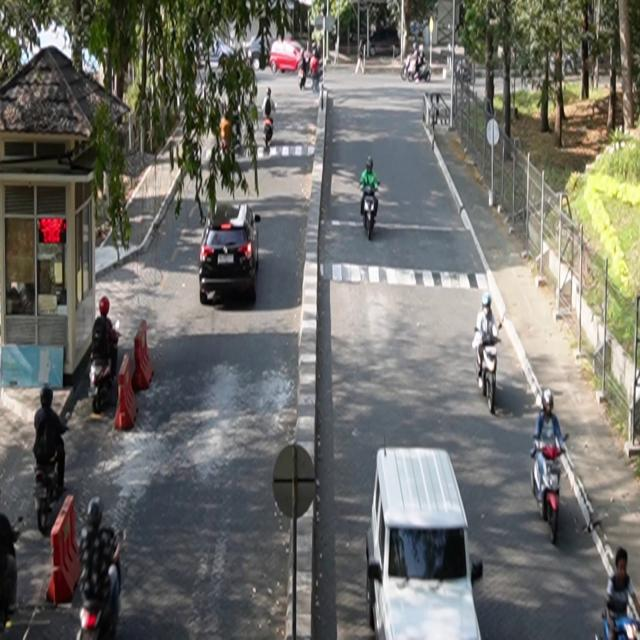car: (366, 445, 484, 640), (199, 201, 262, 306)
